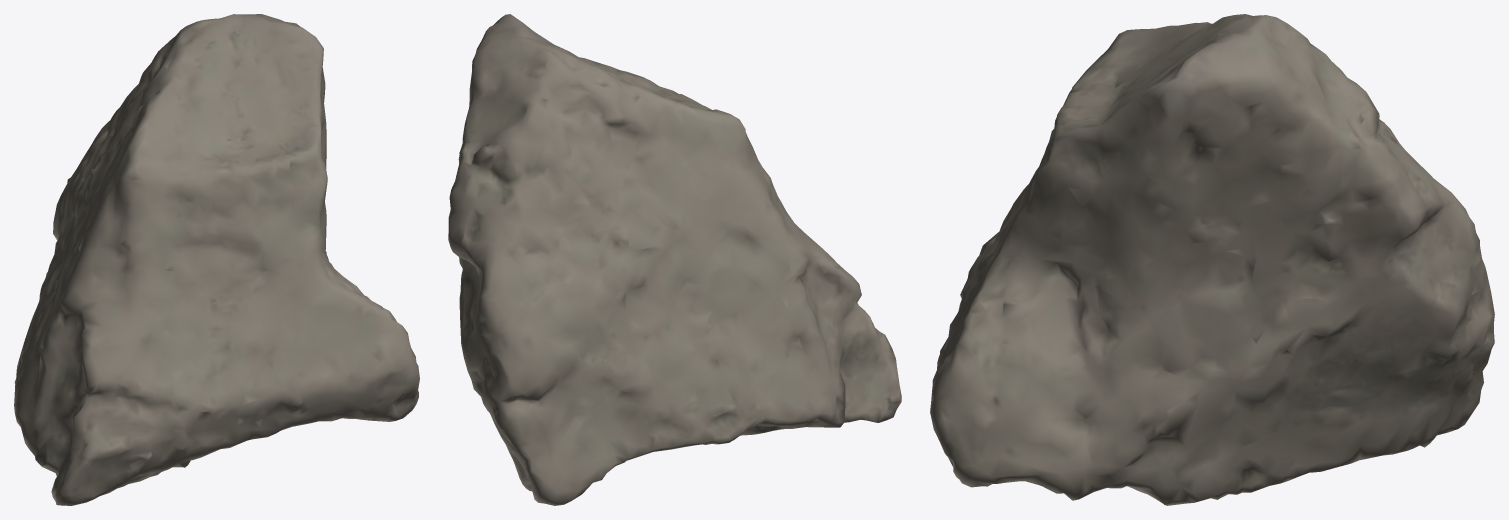
Rendered from rock_moon_c.glb.
The picture shows the model from 3 angles, left to right: view 1: azimuth 30°, elevation 25°; view 2: azimuth 150°, elevation 25°; view 3: azimuth 270°, elevation 25°; orthographic projection. The views are drawn at different scales.
Parts seen in each view (by area): view 1: moon_rock_05_LOD0; view 2: moon_rock_05_LOD0; view 3: moon_rock_05_LOD0.
Part boxes in pixels (x1,y1,x2,y2): moon_rock_05_LOD0: [14, 14, 419, 505]; moon_rock_05_LOD0: [448, 14, 901, 505]; moon_rock_05_LOD0: [930, 14, 1494, 505].
Bounding box in the file's own units: 0.0717 × 0.0734 × 0.0811.
Materials: 1 (1 with a texture image).
